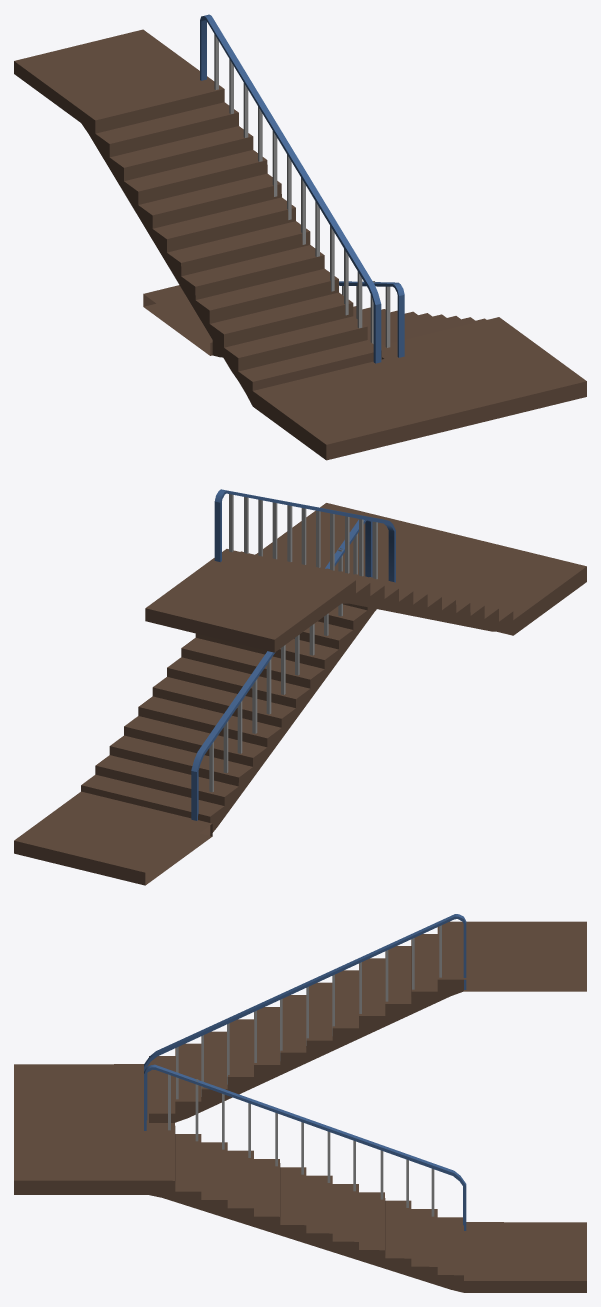
Rendered from Middle_floor_stairs2.FBX.
3 views of the same model, one above another, from view 1: azimuth 30°, elevation 25°; view 2: azimuth 150°, elevation 25°; view 3: azimuth 270°, elevation 25° (orthographic). The views are drawn at different scales.
Visible parts, largest first — view 1: Floor_type3_stairs_019; view 2: Floor_type3_stairs_019; view 3: Floor_type3_stairs_019.
Part boxes in pixels (box(x1,y1,x2,y2)): Floor_type3_stairs_019: box(14, 14, 586, 460); Floor_type3_stairs_019: box(14, 489, 586, 885); Floor_type3_stairs_019: box(14, 914, 586, 1292).
Size of the model in its own units: 284 by 589 by 358.
